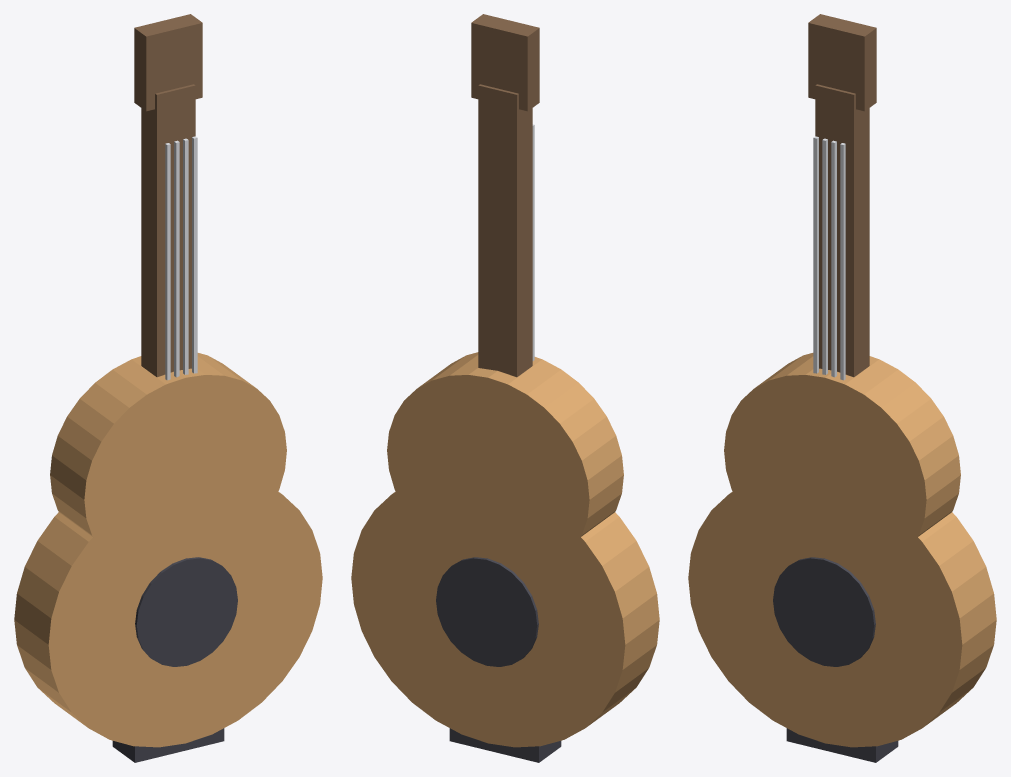
File: guitar.glb
3 views of the same model, side by side, from view 1: azimuth 30°, elevation 25°; view 2: azimuth 150°, elevation 25°; view 3: azimuth 330°, elevation 25° (orthographic).
Size of the model in its own units: 0.92 by 2.31 by 0.22.
